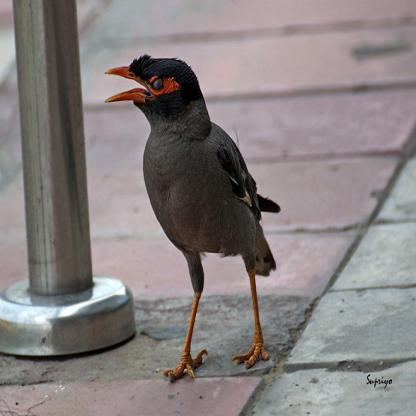Burung: (101, 52, 285, 378)
